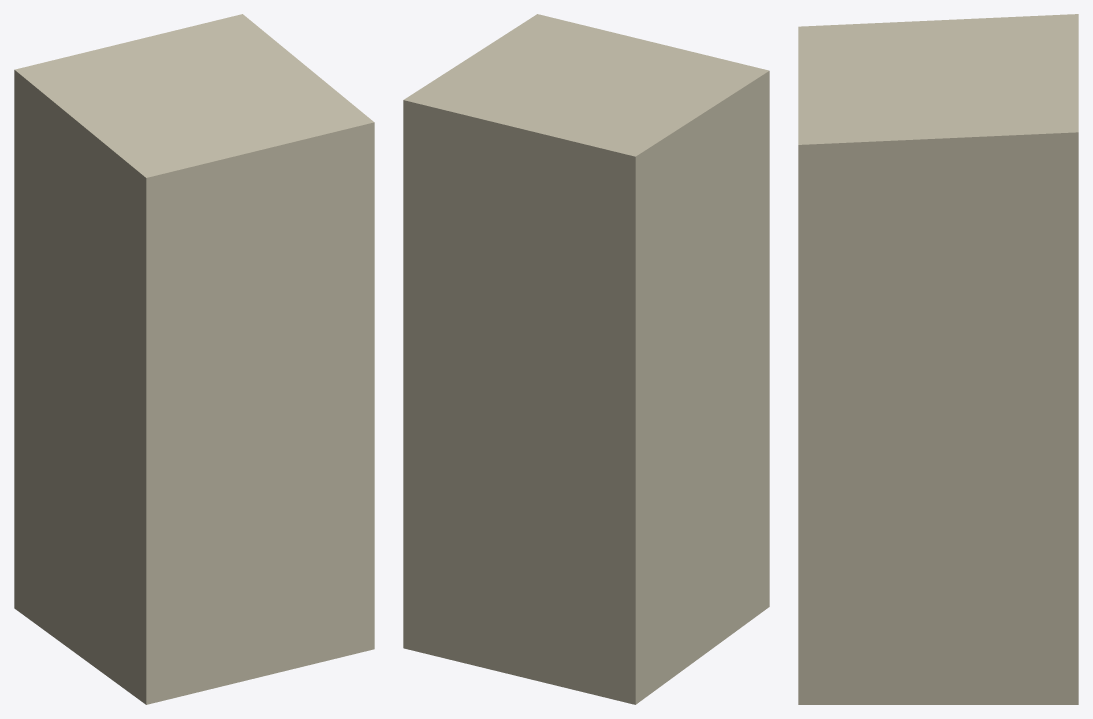
File: Rock_Square_m_01.fbx
The picture shows the model from 3 angles, left to right: view 1: azimuth 30°, elevation 25°; view 2: azimuth 150°, elevation 25°; view 3: azimuth 270°, elevation 25°; orthographic projection. The views are drawn at different scales.
Visible parts, largest first — view 1: Rock_Square_m_01; view 2: Rock_Square_m_01; view 3: Rock_Square_m_01.
Part boxes in pixels (bbox=[...]): Rock_Square_m_01: bbox=[14, 14, 374, 704]; Rock_Square_m_01: bbox=[403, 14, 769, 704]; Rock_Square_m_01: bbox=[798, 14, 1078, 704].
Size of the model in its own units: 43.2 by 97.45 by 43.2.
